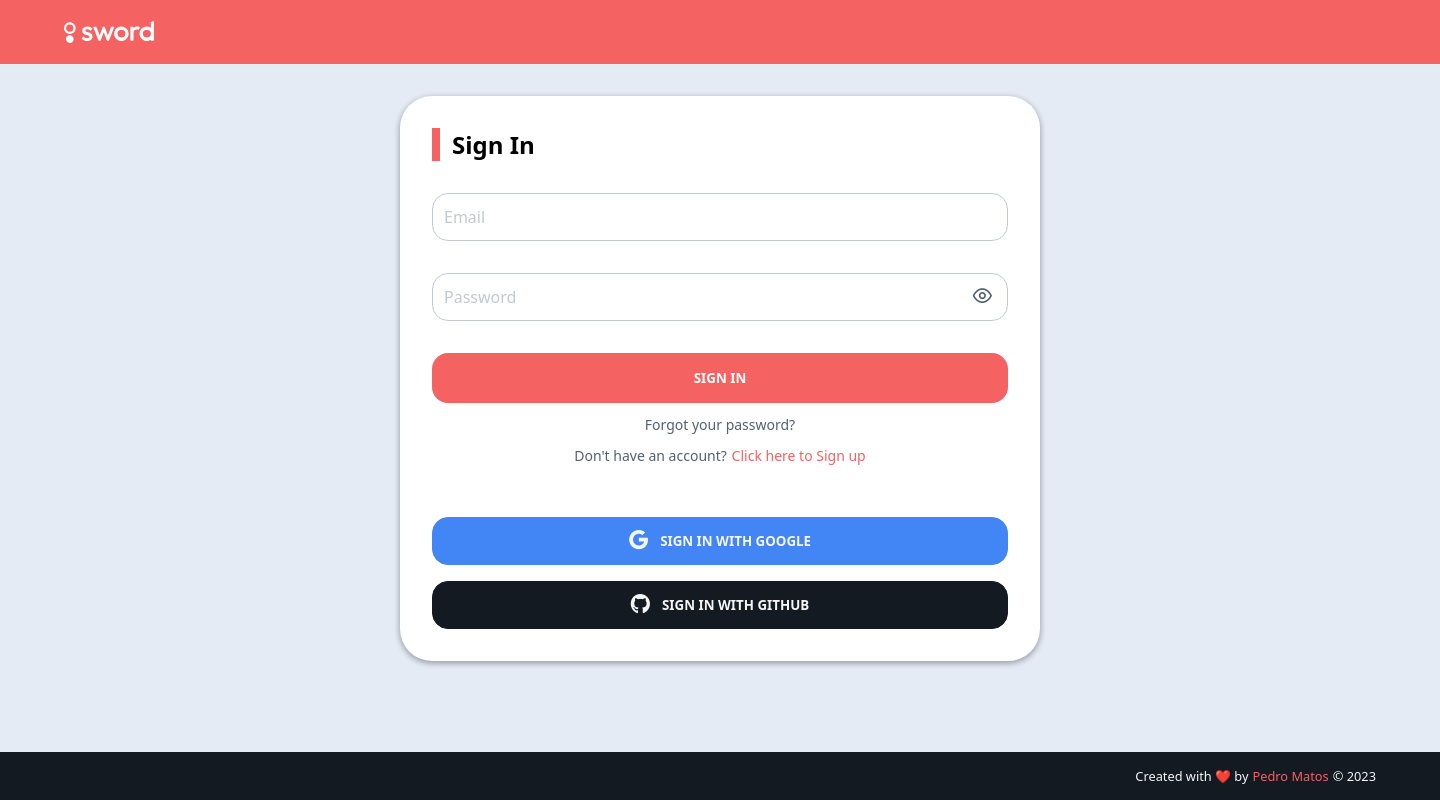
it: AuthView › should toggle between Sign In and Sign Up forms
The width and height of the screenshot is (1440, 800).
Click the button "Click here to Sign up".
click(799, 456)  # box [732,446,866,465]
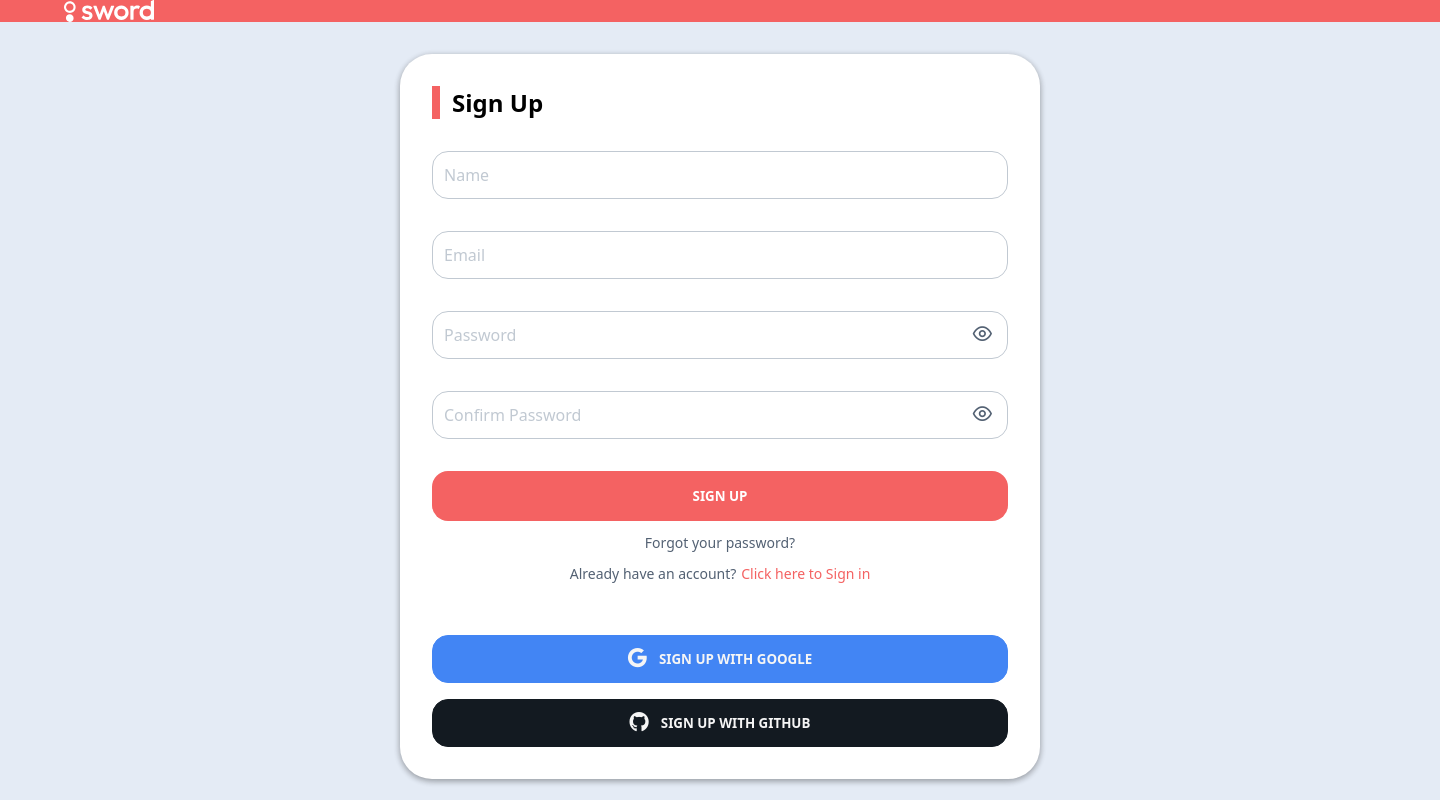
expect the 1st text "Sign Up" is shown: met, box [432,86,543,119]
Click the button "Click here to Sign in".
click(806, 574)  # box [741,564,870,583]
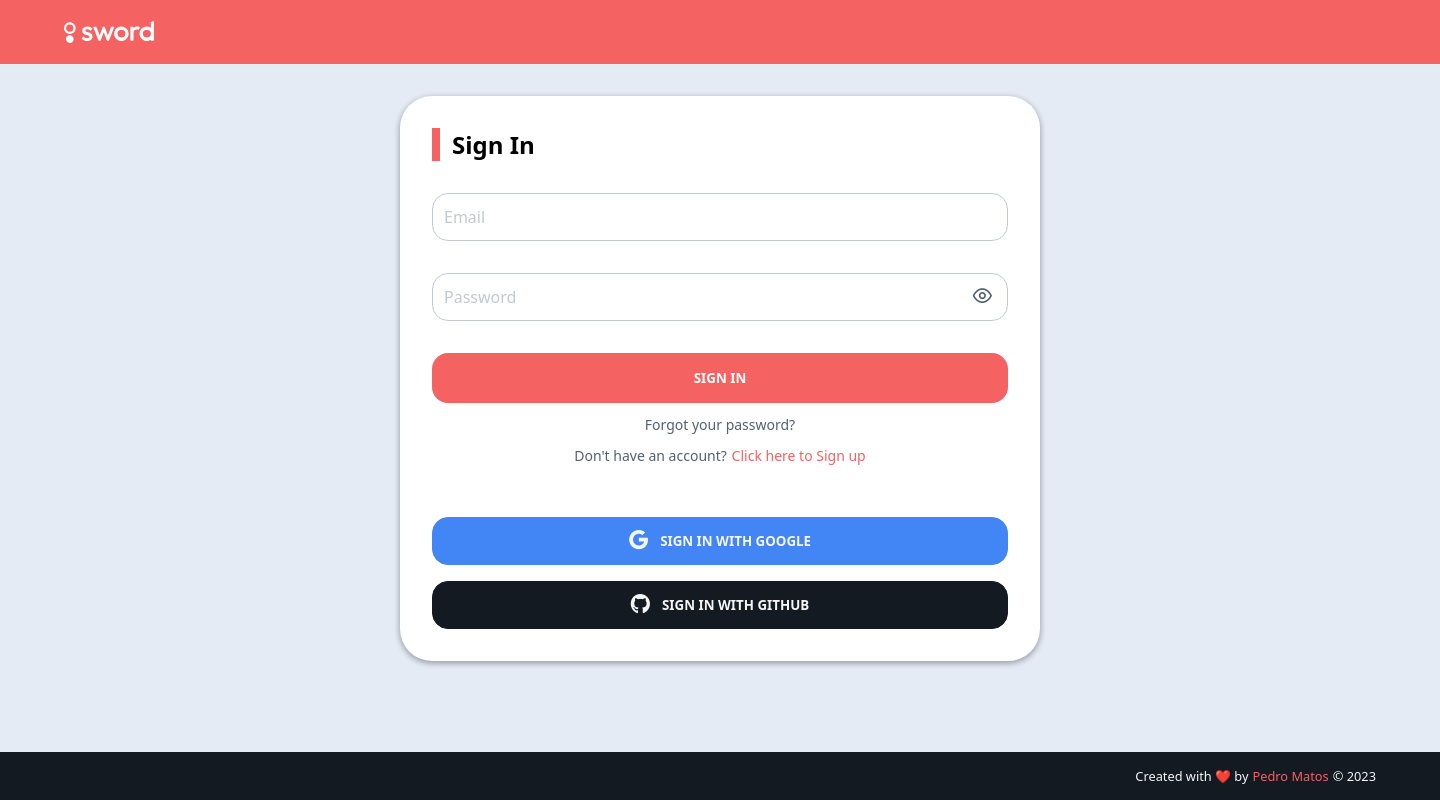
expect the 1st text "Sign In" is shown: met, box [432,128,535,161]
